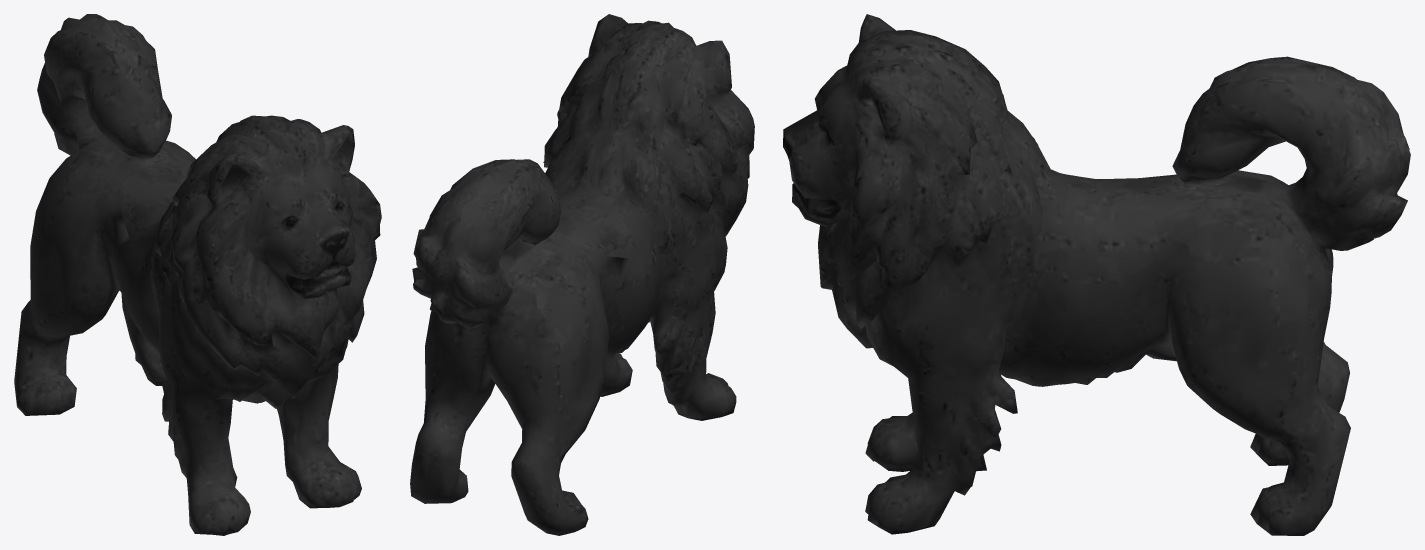
File: detail_14_lo2.glb
3 renders of one model, left to right at view 1: azimuth 30°, elevation 25°; view 2: azimuth 150°, elevation 25°; view 3: azimuth 270°, elevation 25°, orthographic. The views are drawn at different scales.
Visible parts, largest first — view 1: Mesh_0.001; view 2: Mesh_0.001; view 3: Mesh_0.001.
Part boxes in pixels (<box>): Mesh_0.001: <box>14,14,381,535</box>; Mesh_0.001: <box>410,14,754,535</box>; Mesh_0.001: <box>783,14,1410,535</box>.
Bounding box in the file's own units: 0.4054 × 0.8039 × 1.01.
1 material, 1 textured.
